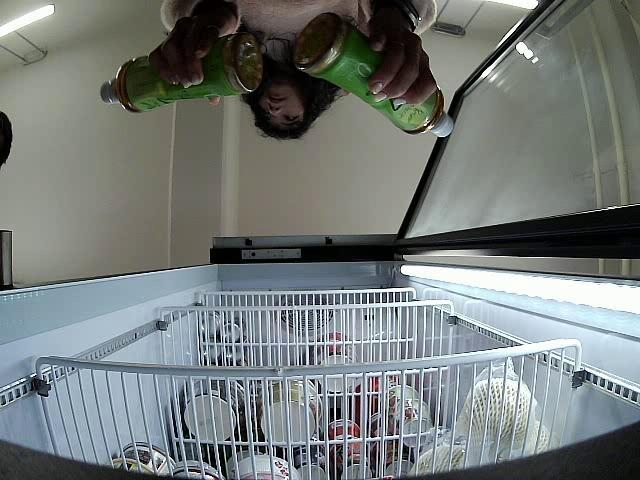19_17cha: (292, 12, 454, 138), (100, 33, 264, 114)
